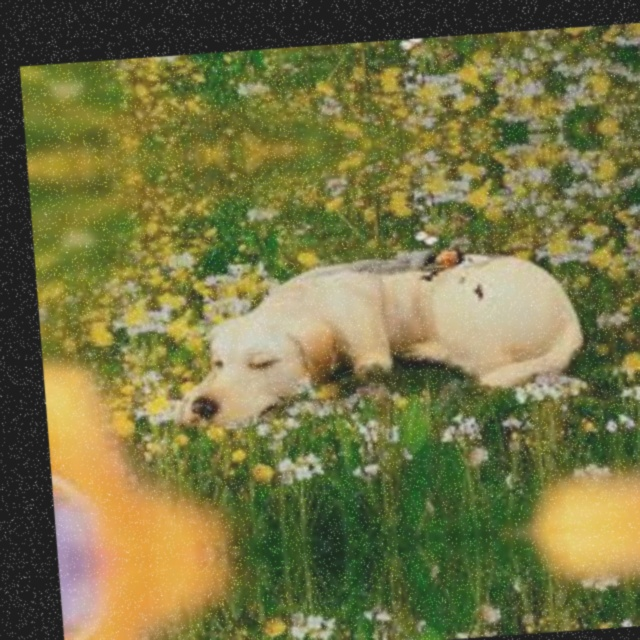dog: (164, 294, 334, 444)
